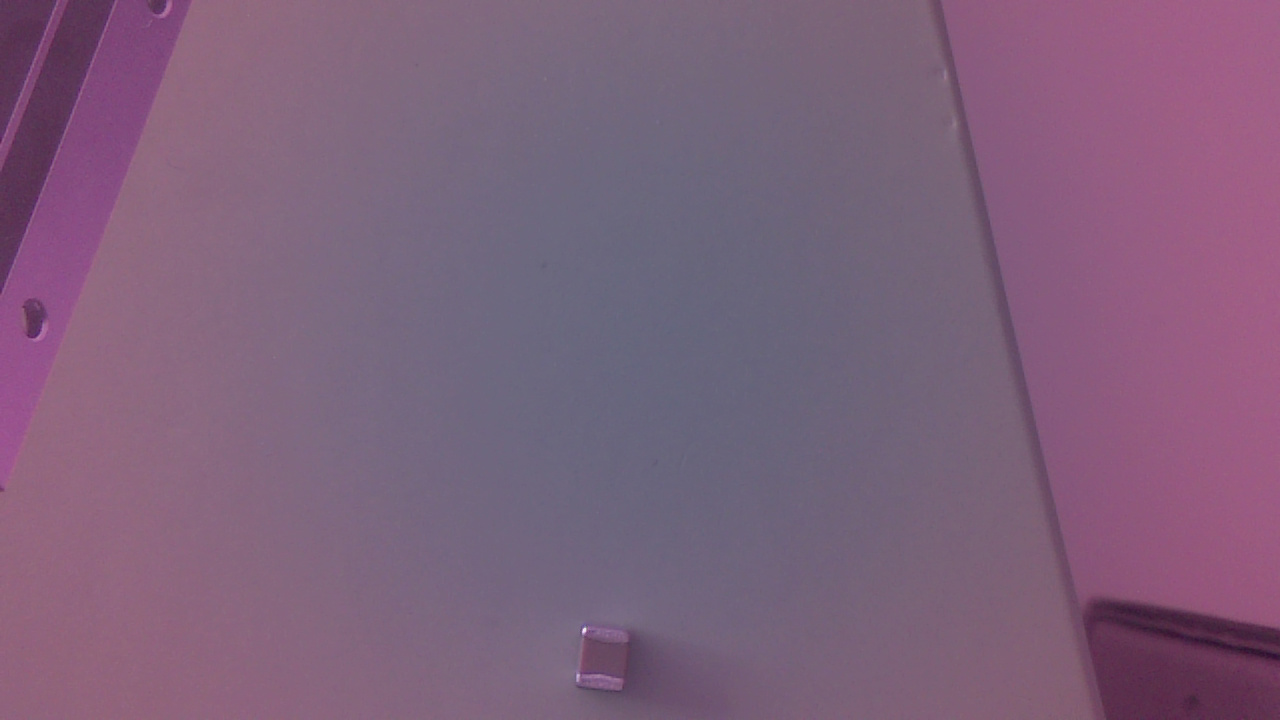Condensator: (572, 627, 644, 702)
